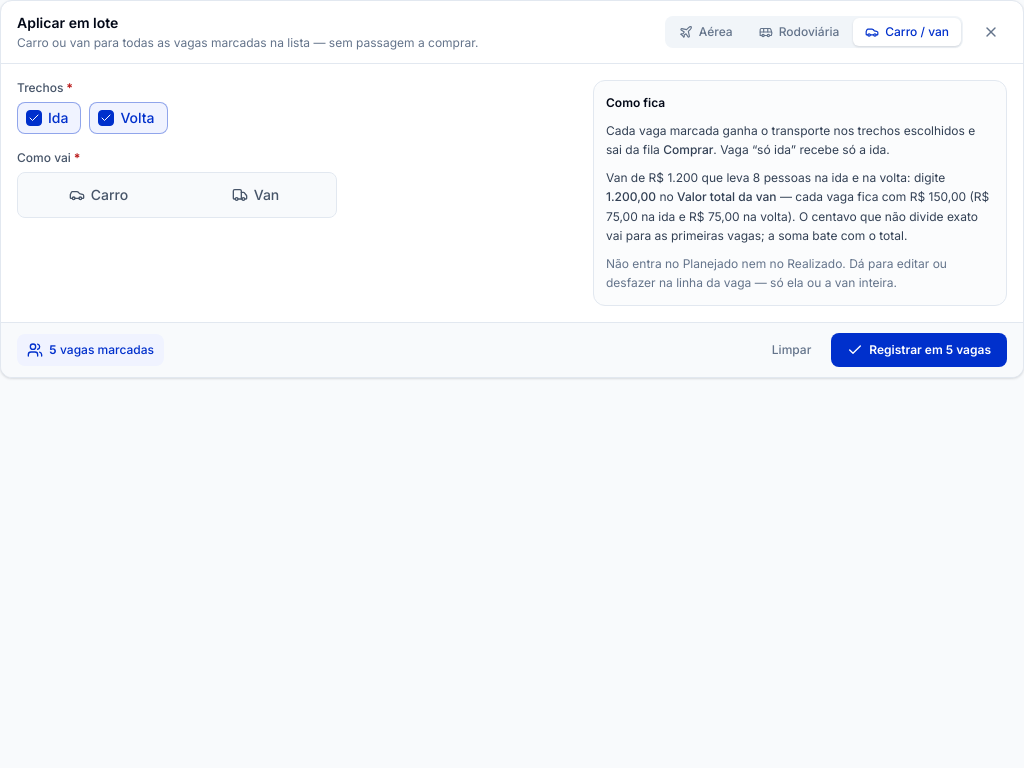
Test case: Painel no modo Carro/van: não perde o que foi digitado › trocar para 'Aérea' com dados também pergunta; não volta sozinho
This screenshot has width=1024, height=768.
Click the radio button with test id "lote-terrestre-modo-van": [256, 195] box [179,177,332,213]
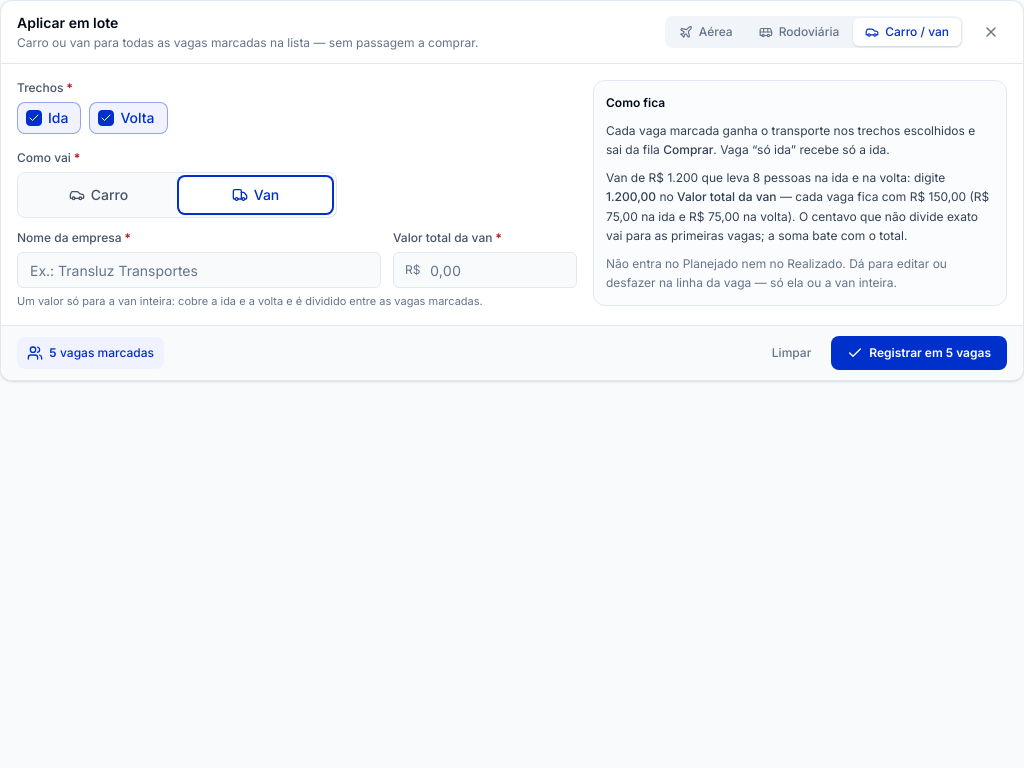
Click the radio button labelled "Aérea": [706, 32] box [667,18,745,46]
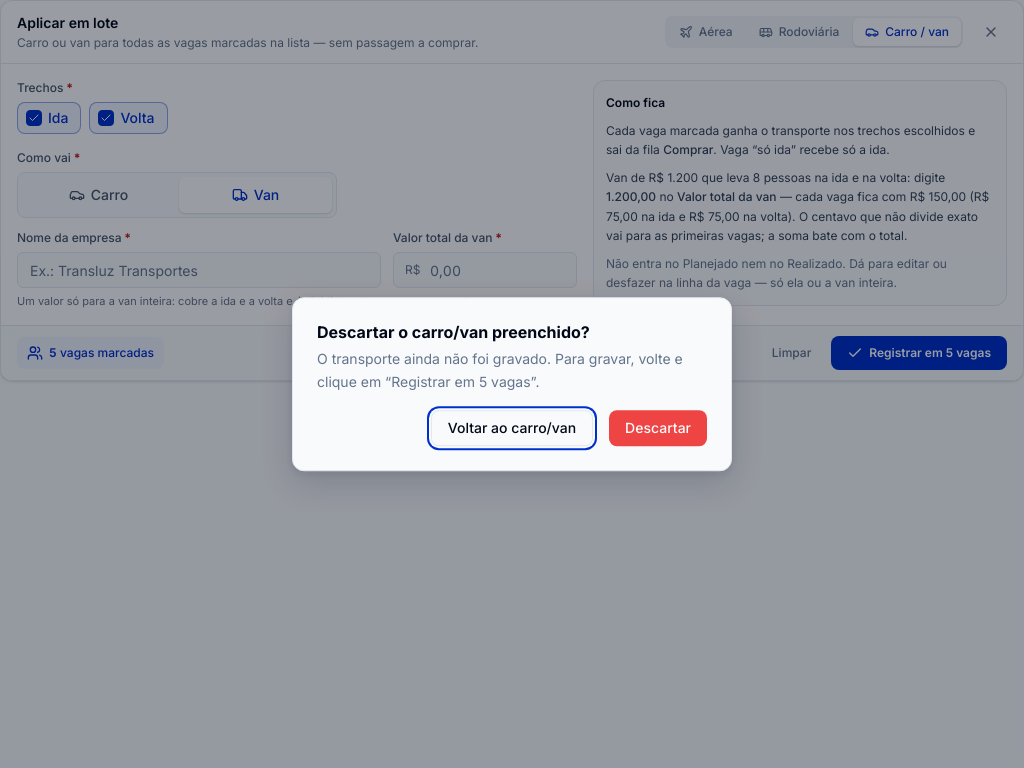
Expected: the heading "Descartar o carro/van preenchido?" is shown, [317,322,590,342]
